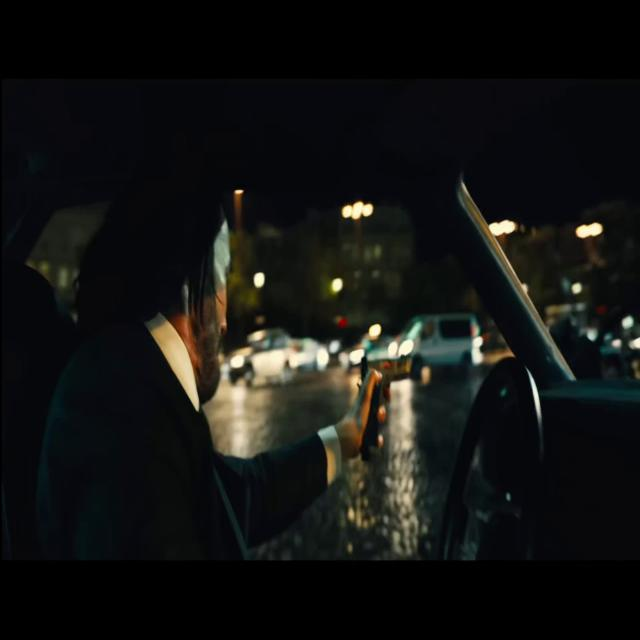weapons: (351, 333, 422, 474)
